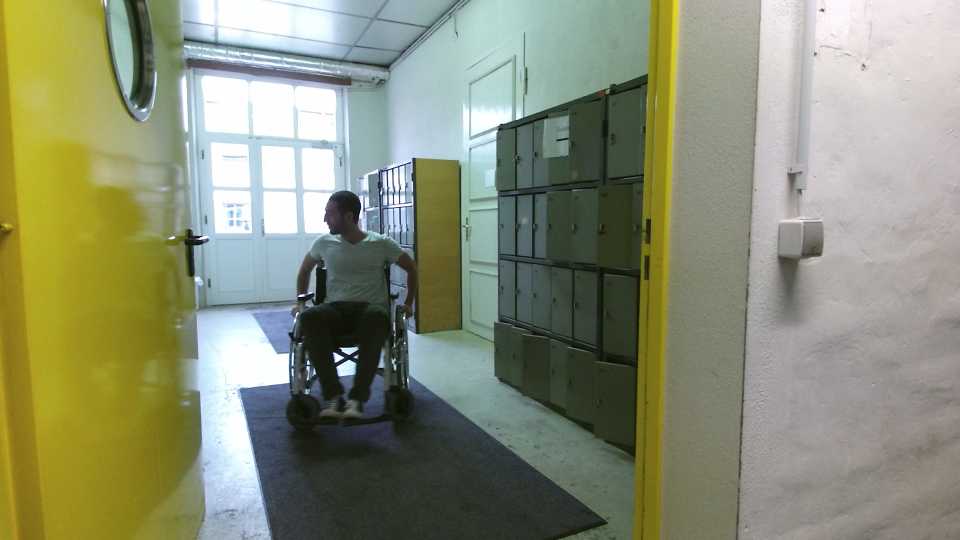wheelchair: (274, 181, 428, 438)
